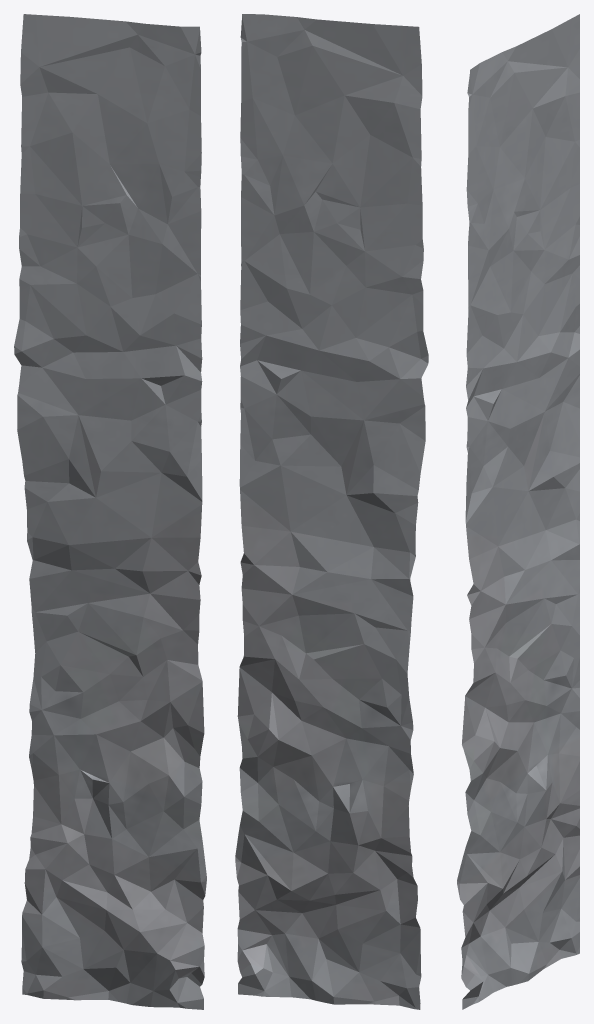
3 renders of one model, left to right at view 1: azimuth 30°, elevation 25°; view 2: azimuth 210°, elevation 25°; view 3: azimuth 270°, elevation 25°, orthographic. The views are drawn at different scales.
Bounding box in the file's own units: 0.1151 × 0.8374 × 0.0992.
1 material, 1 textured.
